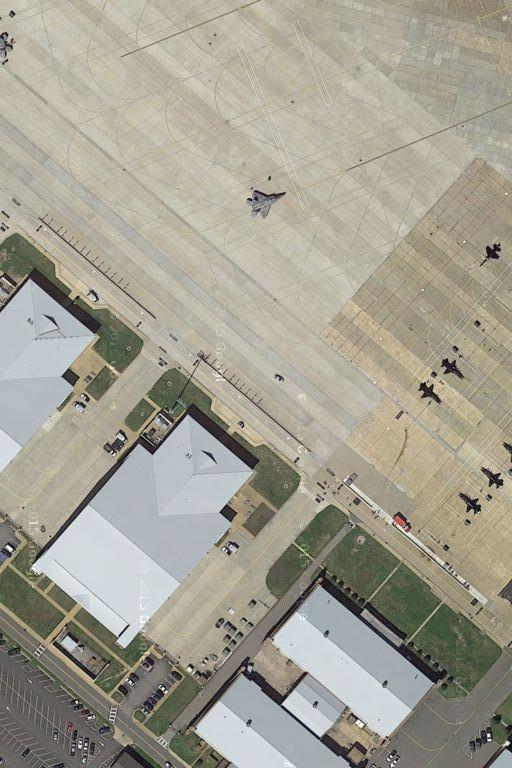F-22: (244, 186, 288, 222)
plane: (454, 488, 488, 519), (437, 354, 471, 383), (415, 378, 447, 408), (477, 464, 508, 493), (478, 240, 504, 271)
